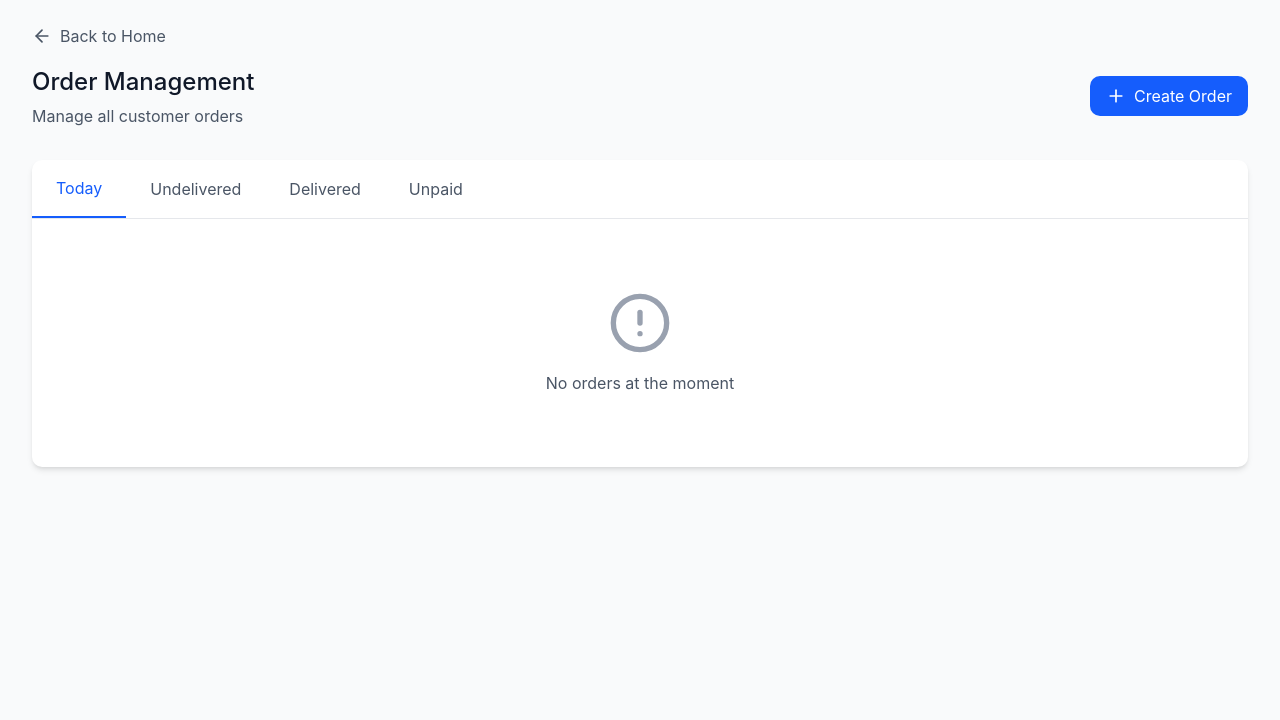
Scenario: OrderManagementScreen › Delivery Today toggle on the Undelivered tab › shows a dash for a customer or address the order does not have
Click the button "Undelivered" at (196, 189), box [126,160,265,218]
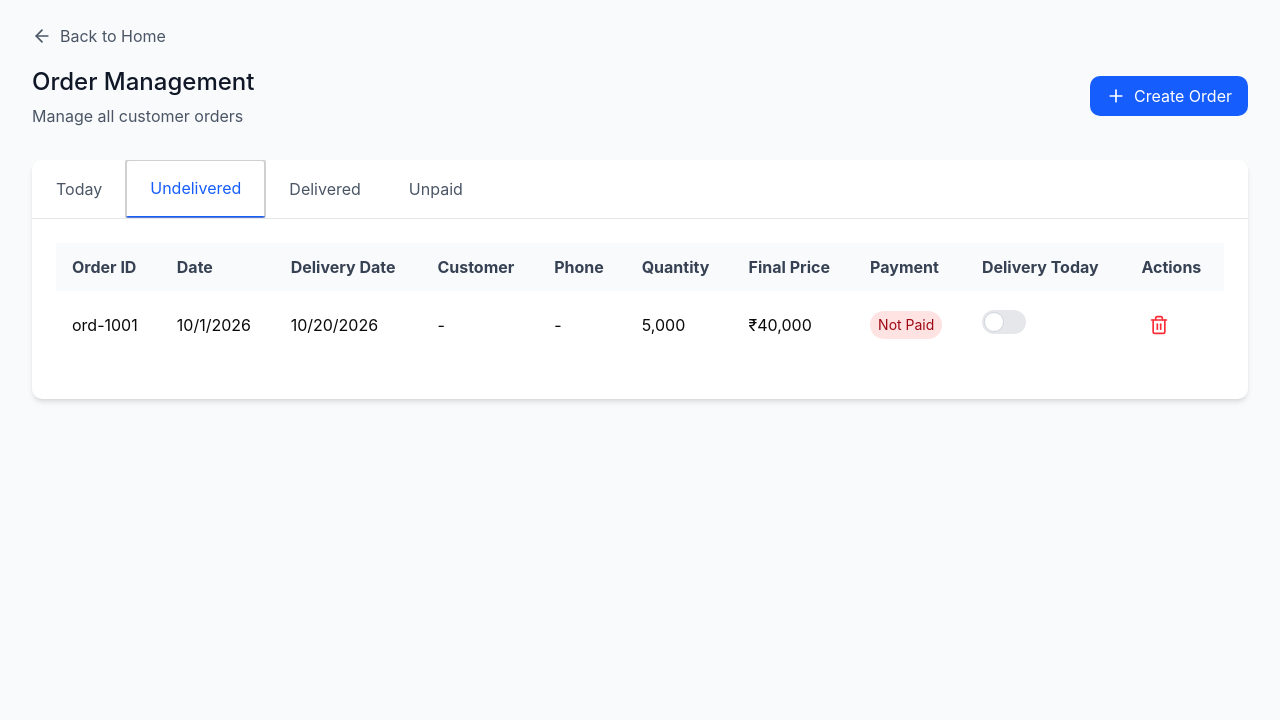
Click the checkbox named "Delivery today for order ord-1001" at (1004, 322), box [982,310,1026,334]
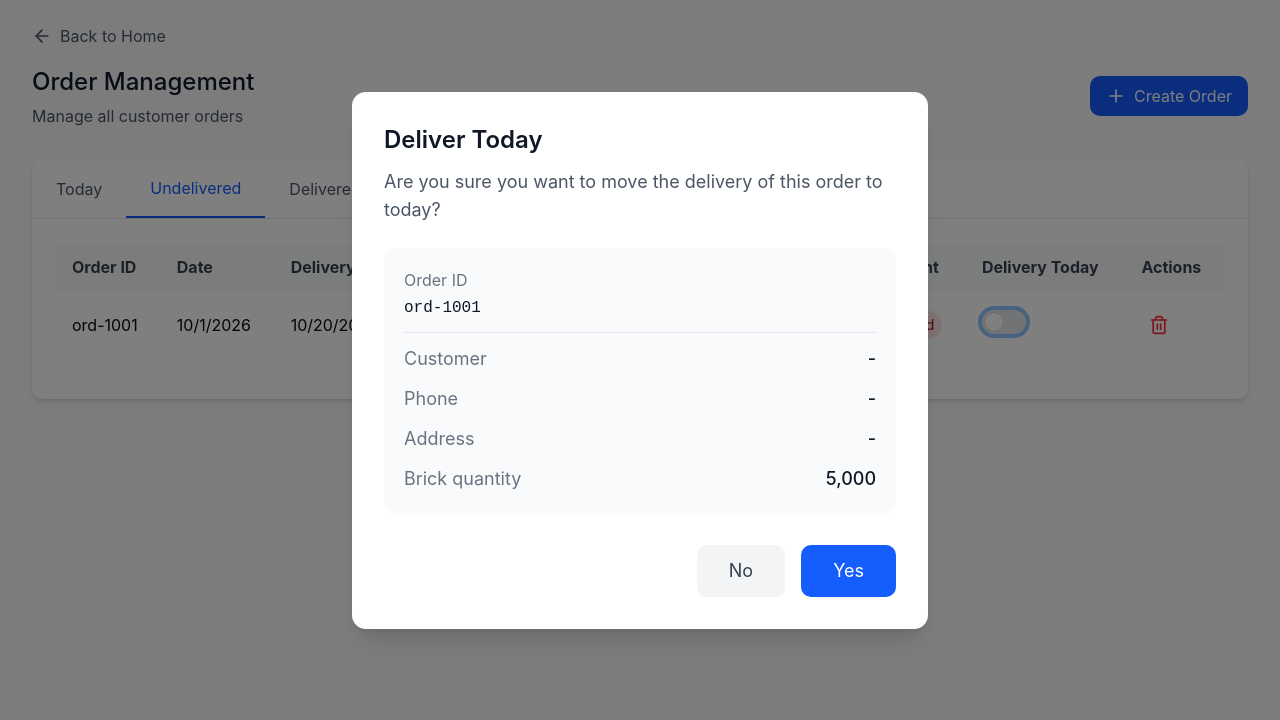
Expected: the 1st text "-" is shown, [868,344,876,372]
Expected: the 2nd text "-" is shown, [868,384,876,412]
Expected: the text "-" in the row of "Address" is shown, [868,428,876,448]
